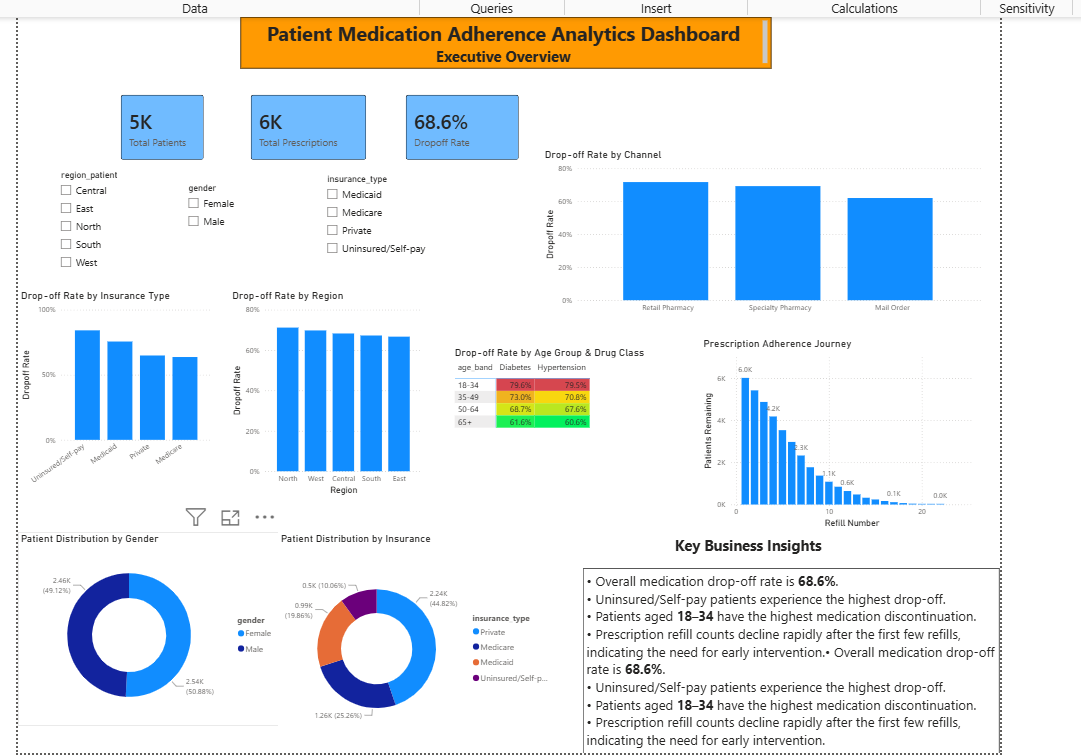

Layout of this report page (visuals, bound fields, positions):
{"tool":"powerbi","page":{"name":"Page 1","canvas":[1600,1200],"ordinal":0},"visuals":[{"type":"cardVisual","fields":{"Data":["adherence_flat.Total Patients"]},"box":[151.2,110.7,169.9,140.3],"z":0},{"type":"cardVisual","fields":{"Data":["adherence_flat.Total Prescriptions"]},"box":[362.7,110.4,222.5,140.2],"z":1000},{"type":"cardVisual","fields":{"Data":["adherence_flat.Dropoff Rate"]},"box":[615.8,110.7,218.3,140.3],"z":2000},{"type":"clusteredColumnChart","title":"Drop-off Rate by Insurance Type","fields":{"Category":["adherence_flat.insurance_type"],"Y":["adherence_flat.Dropoff Rate"]},"box":[0,443.7,320.7,340.3],"z":3000},{"type":"clusteredColumnChart","title":"Drop-off Rate by Channel","fields":{"Y":["adherence_flat.Dropoff Rate"],"Category":["adherence_flat.channel"]},"box":[853.5,213.8,723.4,278],"z":4000},{"type":"clusteredColumnChart","title":"Prescription Adherence Journey","fields":{"Category":["fact_refills.fill_number"],"Y":["CountNonNull(fact_refills.prescription_id)"]},"box":[1111.8,522,449,317.1],"z":5000},{"type":"slicer","fields":{"Values":["adherence_flat.region_patient"]},"box":[56.1,243.6,187.5,192.8],"z":6000},{"type":"slicer","fields":{"Values":["adherence_flat.gender"]},"box":[264.6,264.6,259.3,145.4],"z":7000},{"type":"slicer","title":"Insurance Type","fields":{"Values":["adherence_flat.insurance_type"]},"box":[490.7,250.6,189.3,185.7],"z":8000},{"type":"pivotTable","title":"Drop-off Rate by Age Group & Drug Class","fields":{"Rows":["adherence_flat.age_band"],"Columns":["adherence_flat.drug_class"],"Values":["adherence_flat.Dropoff Rate"]},"box":[707.3,536.3,343.9,247.7],"z":9000},{"type":"clusteredColumnChart","title":"Drop-off Rate by Region","fields":{"Category":["adherence_flat.region_patient"],"Y":["adherence_flat.Dropoff Rate"]},"box":[343.9,443.7,318.9,340.3],"z":10000},{"type":"donutChart","title":"Patient Distribution by Gender","fields":{"Category":["adherence_flat.gender"],"Y":["Count(fact_refills.patient_id)"]},"box":[0,839.2,427.6,317.1],"z":11000},{"type":"donutChart","title":"Patient Distribution by Insurance","fields":{"Y":["Count(fact_refills.patient_id)"],"Category":["adherence_flat.insurance_type"]},"box":[424.1,839.2,456.1,361.7],"z":12000},{"type":"textbox","box":[362.7,0,865.7,84.1],"z":13000},{"type":"textbox","box":[1065.5,839.2,392,60.6],"z":14000},{"type":"textbox","box":[921.2,898,678.8,302.9],"z":15000}]}

Visuals, with their boxes on the page's 1600x1200 design canvas (x1, y1, x2, y2). These are canvas units, not pixel positions in the 1081x756 screenshot, which may show the page scaled, cropped or inside an application window:
cardVisual - adherence_flat.Total Patients: bbox=(151, 111, 321, 251)
cardVisual - adherence_flat.Total Prescriptions: bbox=(363, 110, 585, 251)
cardVisual - adherence_flat.Dropoff Rate: bbox=(616, 111, 834, 251)
"Drop-off Rate by Insurance Type" clusteredColumnChart: bbox=(0, 444, 321, 784)
"Drop-off Rate by Channel" clusteredColumnChart: bbox=(854, 214, 1577, 492)
"Prescription Adherence Journey" clusteredColumnChart: bbox=(1112, 522, 1561, 839)
slicer - adherence_flat.region_patient: bbox=(56, 244, 244, 436)
slicer - adherence_flat.gender: bbox=(265, 265, 524, 410)
"Insurance Type" slicer: bbox=(491, 251, 680, 436)
"Drop-off Rate by Age Group & Drug Class" pivotTable: bbox=(707, 536, 1051, 784)
"Drop-off Rate by Region" clusteredColumnChart: bbox=(344, 444, 663, 784)
"Patient Distribution by Gender" donutChart: bbox=(0, 839, 428, 1156)
"Patient Distribution by Insurance" donutChart: bbox=(424, 839, 880, 1201)
textbox: bbox=(363, 0, 1228, 84)
textbox: bbox=(1066, 839, 1458, 900)
textbox: bbox=(921, 898, 1600, 1201)
